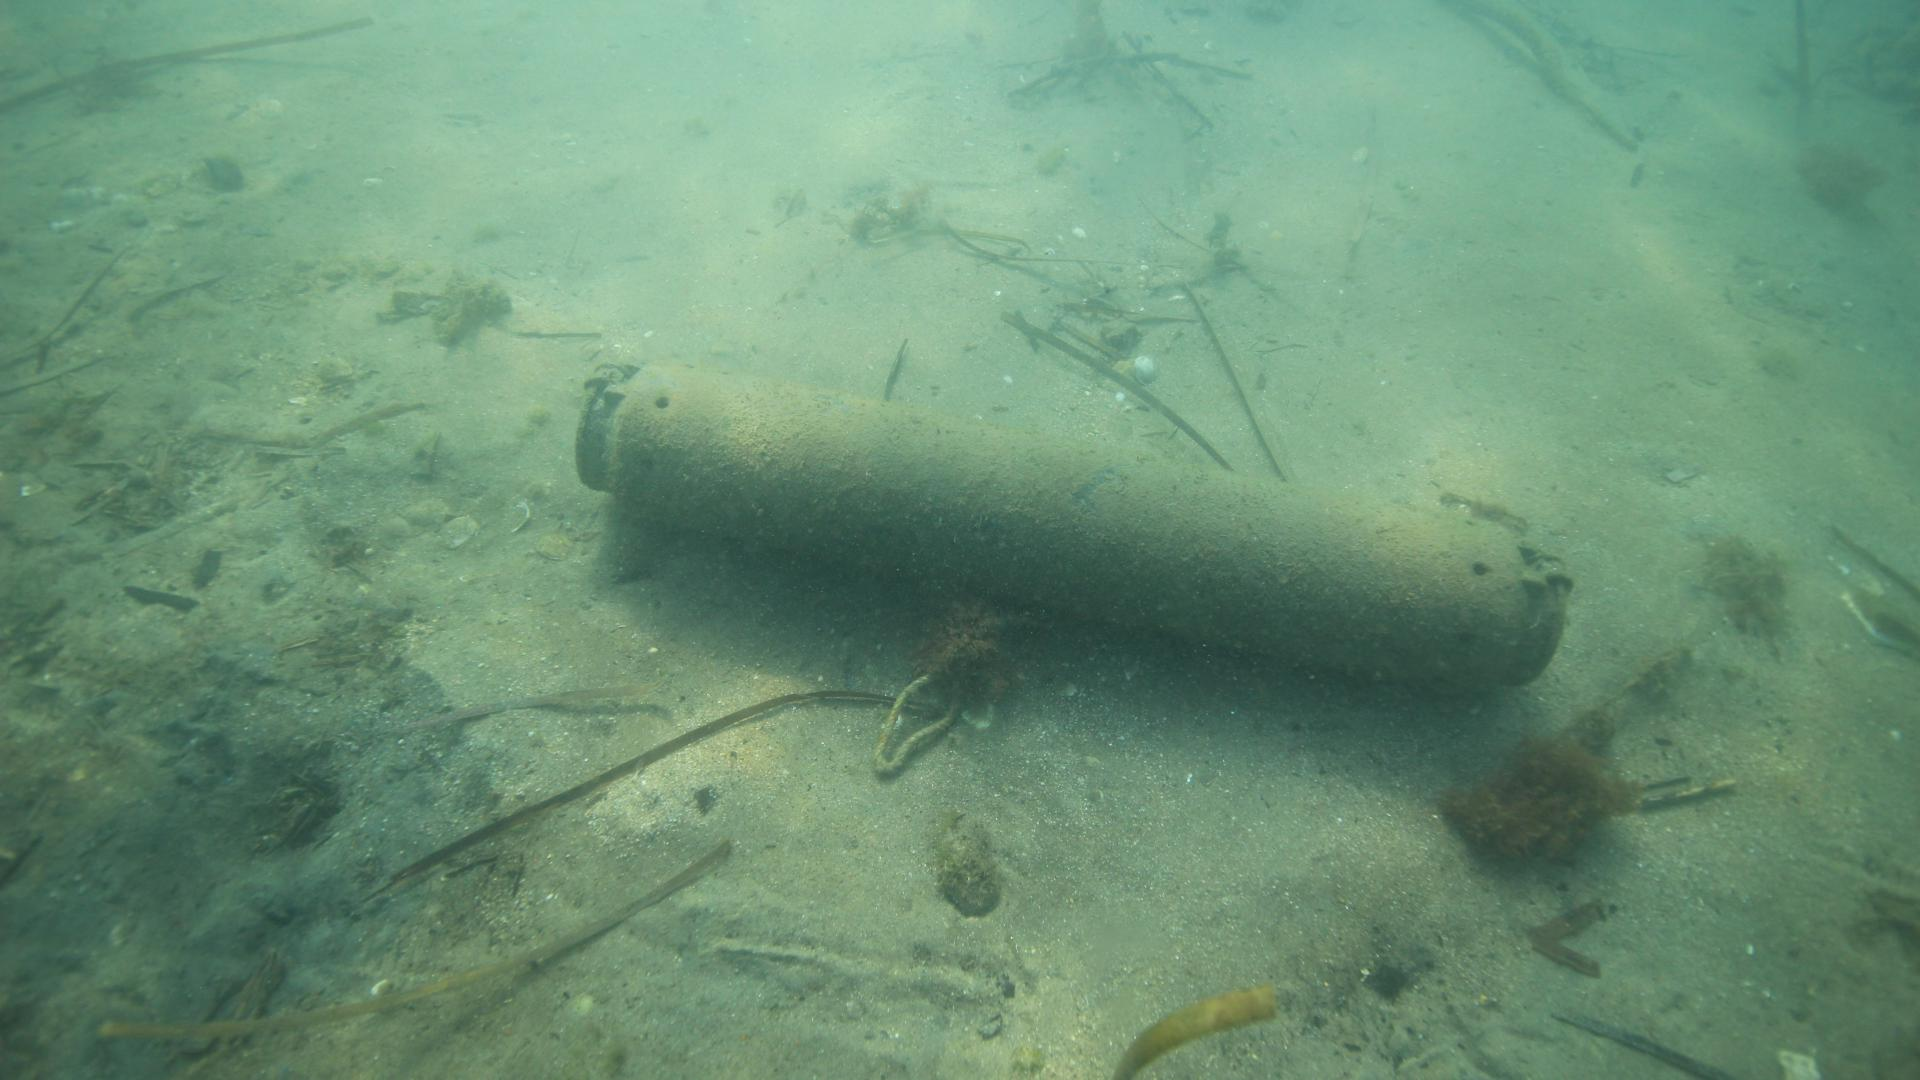eel fish trap: (567, 355, 1571, 695)
